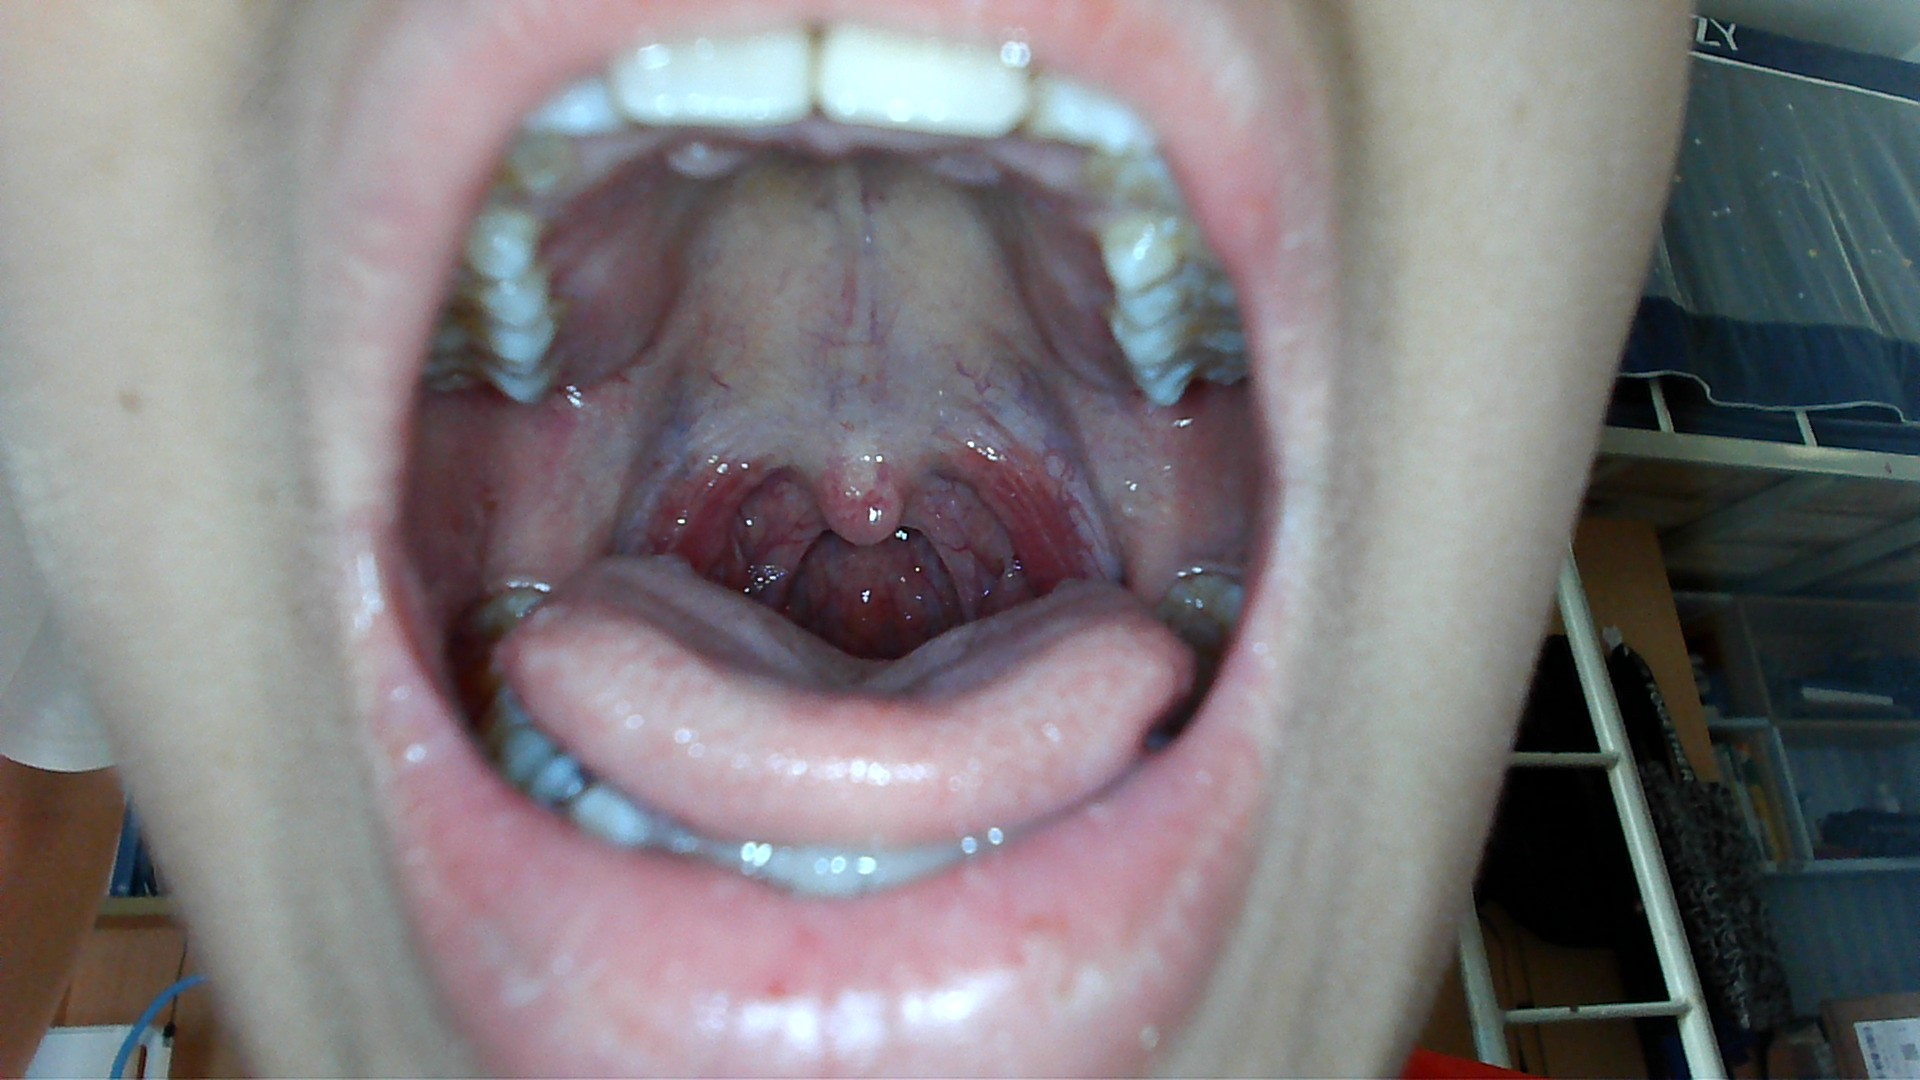throat: (945, 425, 1095, 588), (646, 436, 754, 580)
